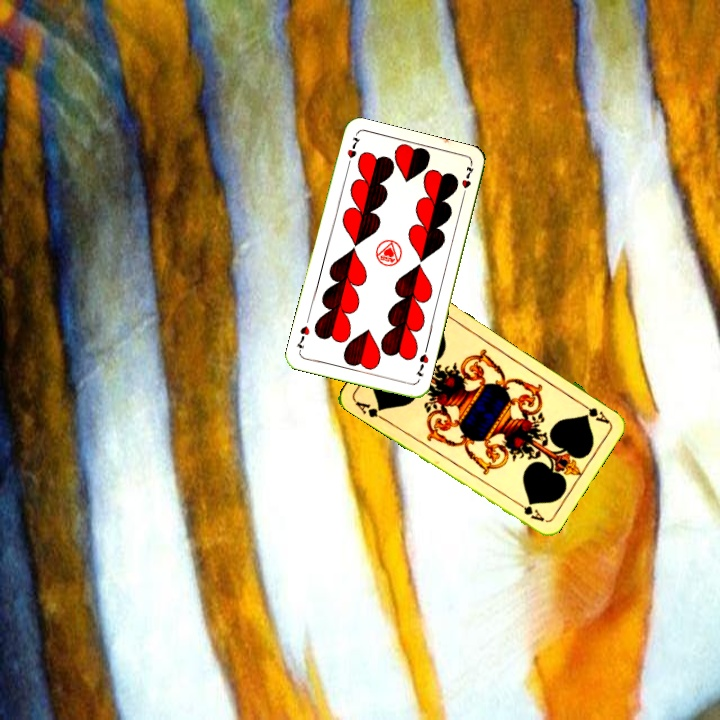GA: (575, 398, 612, 426), (351, 397, 388, 424)
H7: (342, 131, 363, 171), (412, 350, 431, 379)
